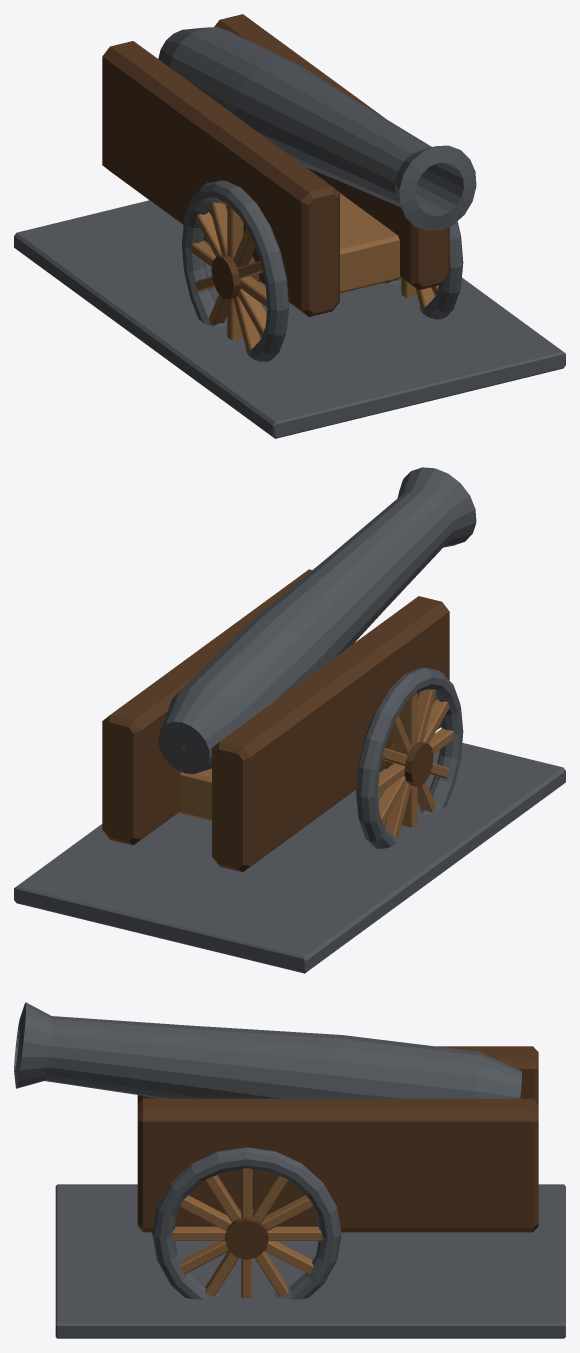
The model's file is wall-cannon.glb.
3 renders of one model, top to bottom at view 1: azimuth 30°, elevation 25°; view 2: azimuth 150°, elevation 25°; view 3: azimuth 270°, elevation 25°, orthographic. The views are drawn at different scales.
Parts seen in each view (by area): view 1: mat_metal, mat_timber, mat_timberLight; view 2: mat_metal, mat_timber, mat_timberLight; view 3: mat_metal, mat_timber, mat_timberLight.
Part boxes in pixels (left/top/right/bottom): mat_metal: left=14, top=27, right=565, bottom=438; mat_timber: left=102, top=14, right=449, bottom=316; mat_timberLight: left=190, top=193, right=438, bottom=350; mat_metal: left=14, top=467, right=565, bottom=973; mat_timber: left=102, top=569, right=449, bottom=871; mat_timberLight: left=178, top=689, right=454, bottom=837; mat_metal: left=14, top=1002, right=565, bottom=1338; mat_timber: left=137, top=1046, right=538, bottom=1259; mat_timberLight: left=171, top=1168, right=322, bottom=1297.
Size of the model in its own units: 1.82 by 1.65 by 3.03.
